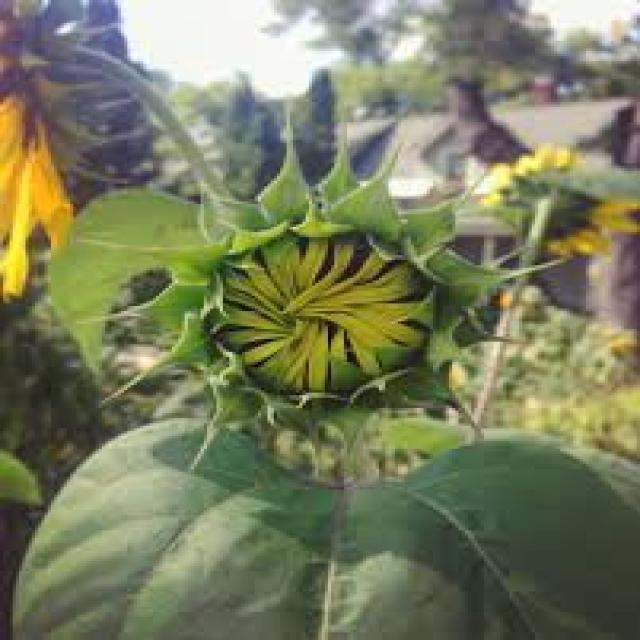Unbloomed: (148, 187, 509, 468)
